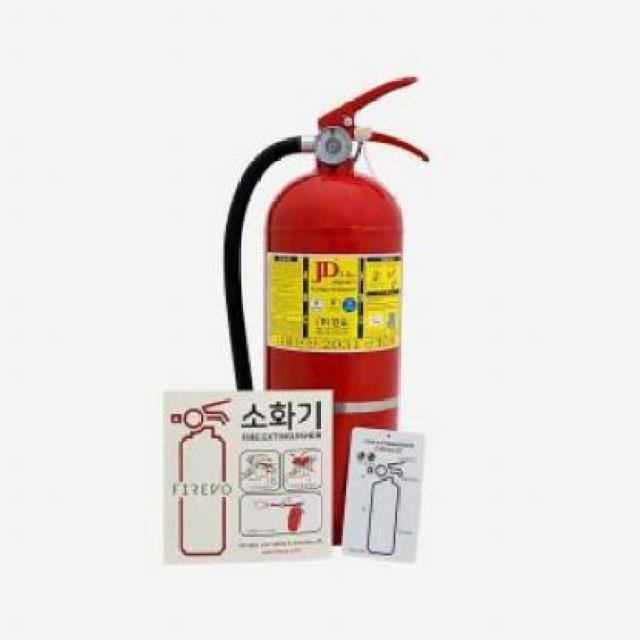fire extinguisher: (223, 77, 431, 546)
